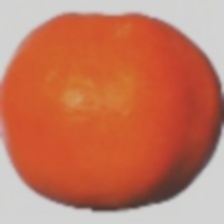tangerine: (21, 33, 217, 175)
